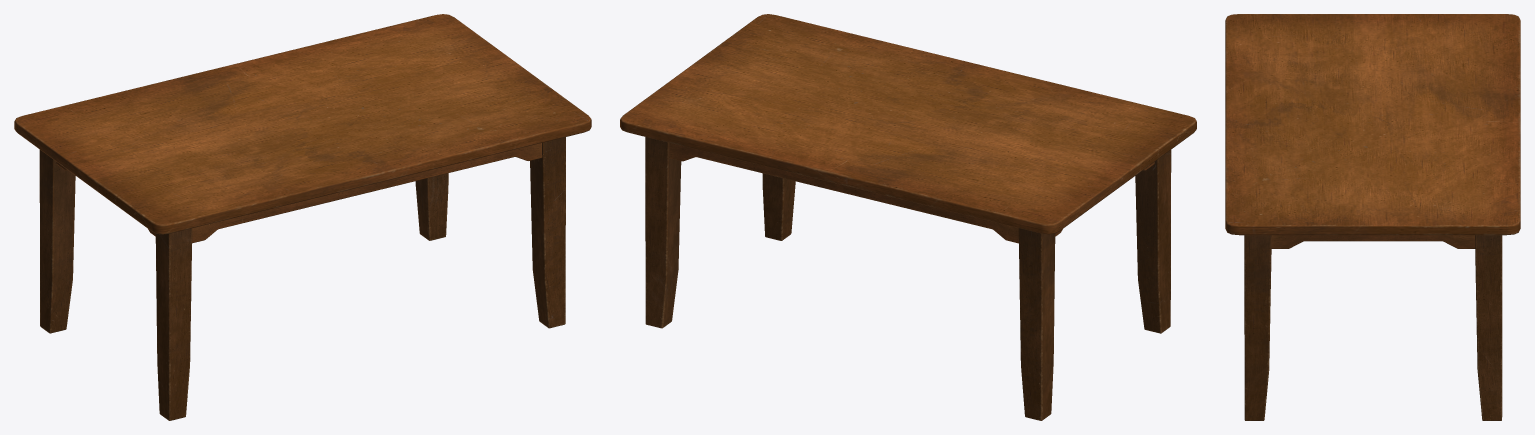
The model's file is old_wooden_table.glb.
The picture shows the model from 3 angles, left to right: view 1: azimuth 30°, elevation 25°; view 2: azimuth 150°, elevation 25°; view 3: azimuth 270°, elevation 25°; orthographic projection.
Visible parts, largest first — view 1: old_table; view 2: old_table; view 3: old_table.
Part boxes in pixels (bbox=[...]): old_table: bbox=[14, 14, 591, 420]; old_table: bbox=[620, 14, 1196, 420]; old_table: bbox=[1225, 14, 1520, 420].
Size of the model in its own units: 1.3 by 0.5846 by 0.7613.
Materials: 1 (1 with a texture image).
